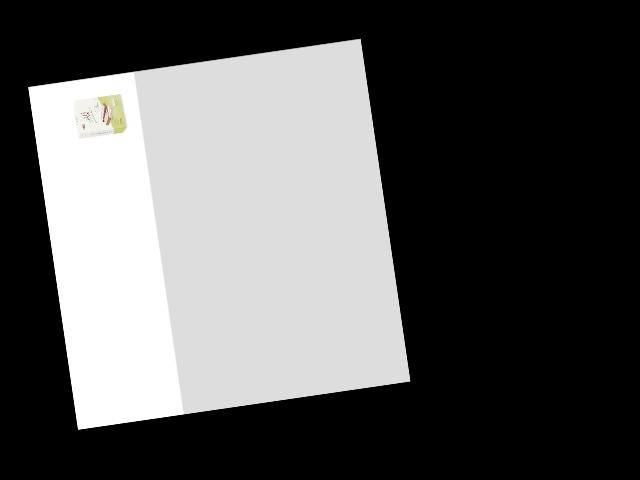chocolate: (72, 92, 129, 142)
